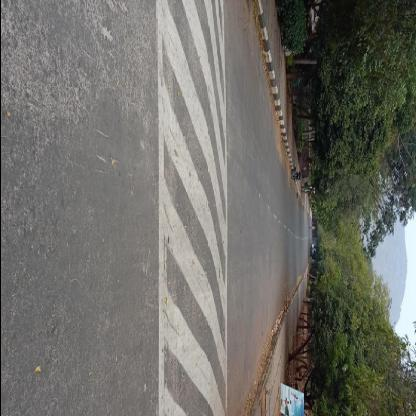speed-bumps: (140, 1, 237, 415)
